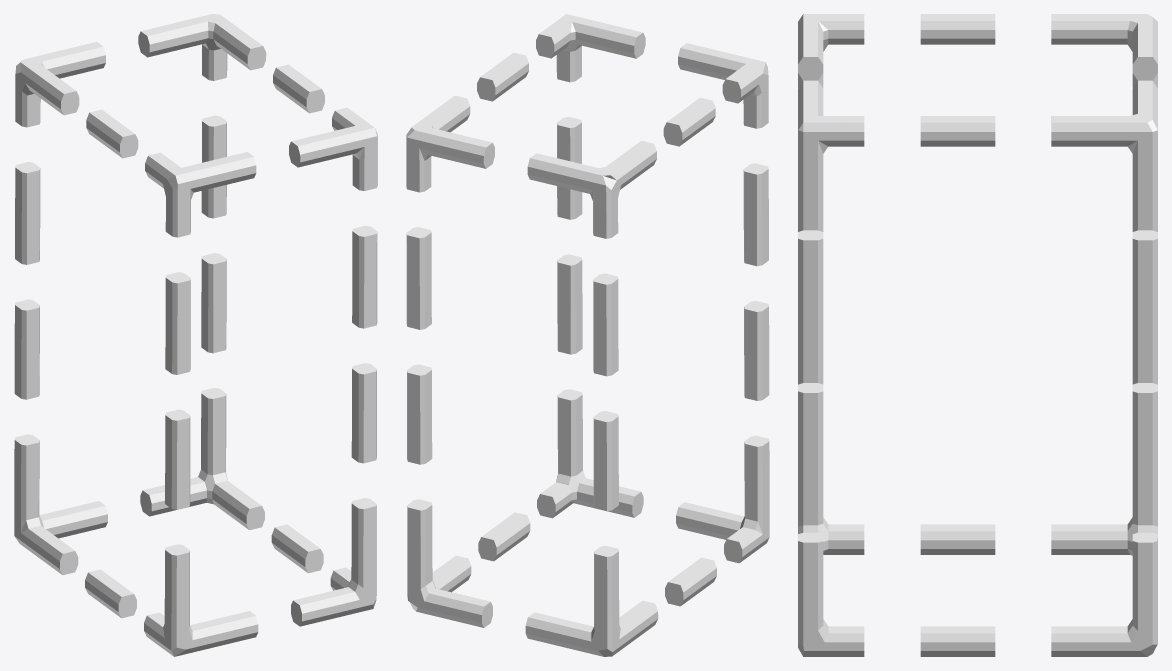
The model's file is FetaOutline.gltf.
3 views of the same model, side by side, from view 1: azimuth 30°, elevation 25°; view 2: azimuth 150°, elevation 25°; view 3: azimuth 270°, elevation 25° (orthographic). The views are drawn at different scales.
Visible parts, largest first — view 1: Cube.071; view 2: Cube.071; view 3: Cube.071.
Boxes of the visible parts, box(x1,y1,x2,y2) form: Cube.071: box(14, 14, 377, 656); Cube.071: box(406, 14, 769, 656); Cube.071: box(798, 14, 1157, 656).
Bounding box in the file's own units: 0.4479 × 0.9989 × 0.6081.
Materials: 1 (1 with a texture image).
